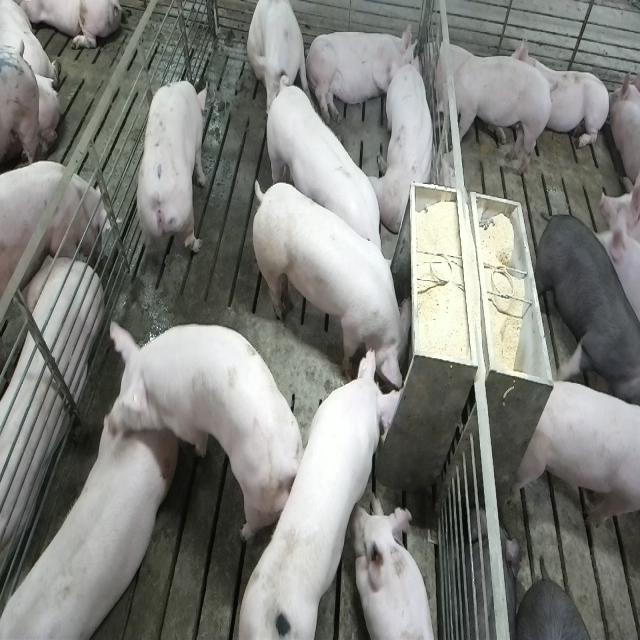Feeding: (241, 344, 413, 636), (255, 173, 419, 400)
Lateral_lying: (0, 237, 103, 593), (304, 20, 418, 126)
Sitting: (247, 1, 310, 122)
Standing: (101, 323, 300, 553), (0, 421, 165, 640), (262, 76, 391, 280), (512, 378, 638, 538), (535, 216, 638, 410), (428, 52, 555, 182), (138, 75, 214, 272), (0, 162, 109, 299)
Sternal_lying: (506, 29, 608, 152), (358, 497, 438, 640), (376, 52, 438, 235)
